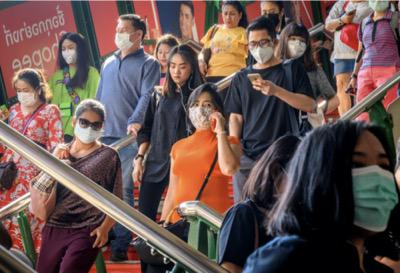with_mask: (349, 151, 397, 234), (72, 117, 105, 146), (187, 99, 215, 130), (247, 37, 275, 65), (113, 27, 136, 53), (14, 86, 39, 109), (286, 37, 307, 59), (259, 7, 283, 26), (60, 43, 78, 65), (367, 1, 389, 12)
without_mask: (167, 61, 191, 84), (156, 48, 172, 67), (222, 9, 238, 27)
